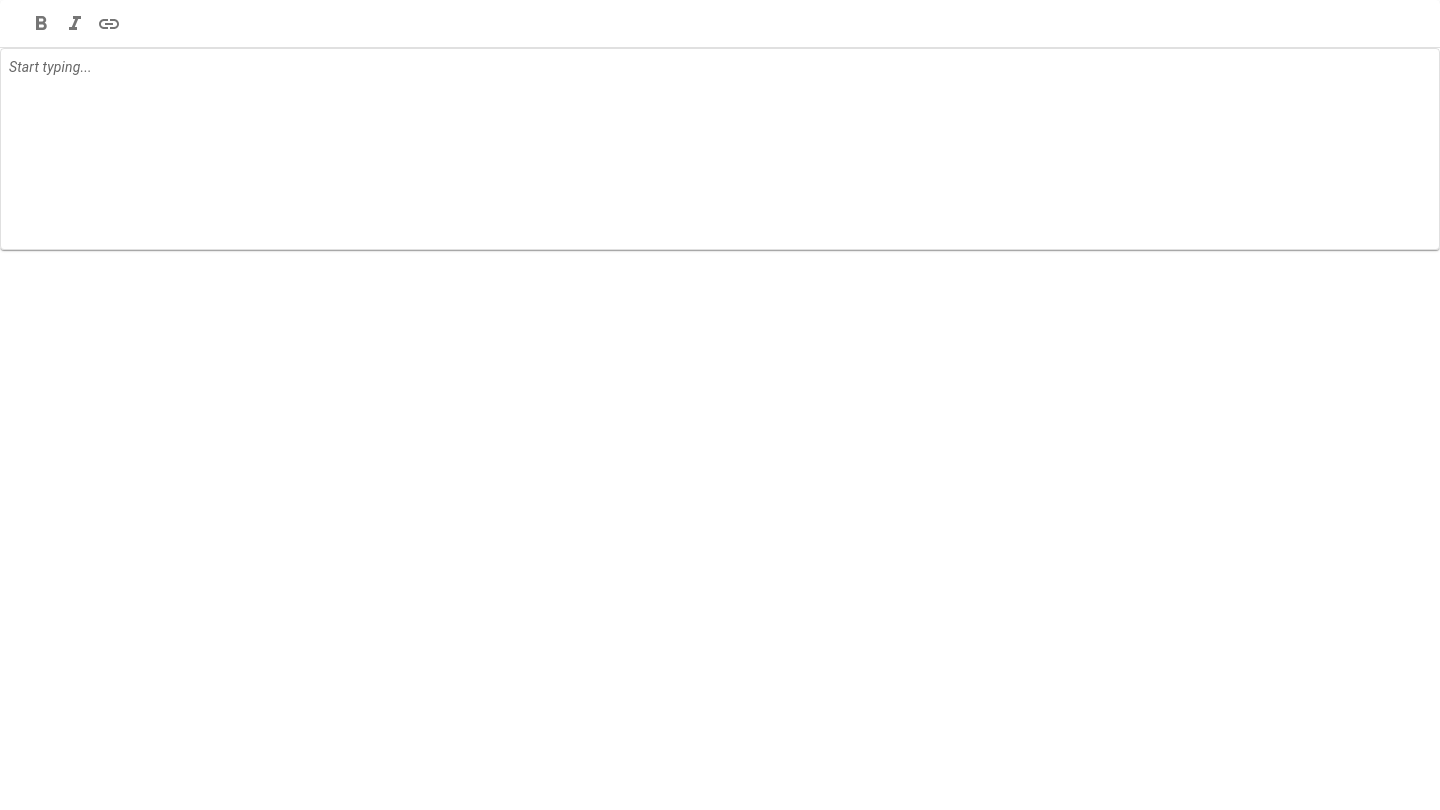
Test case: RichTextEditor › opens link dialog when link button is clicked
This screenshot has width=1440, height=810.
Click the button titled "Insert Link": {"x": 109, "y": 24} [92, 6, 126, 40]
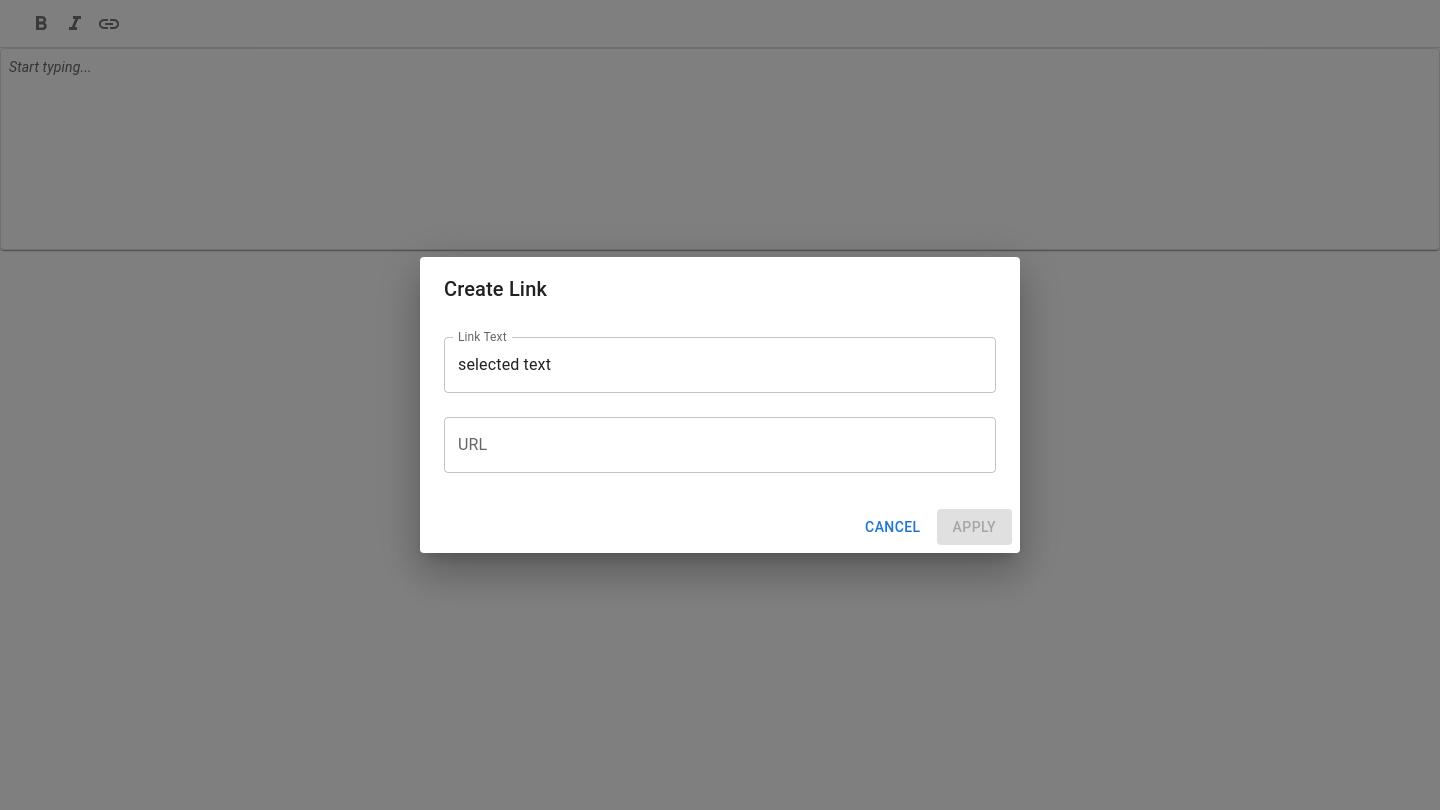
Check: the heading "Create Link" is shown, box [444, 277, 547, 301]
Check: the field labelled "Link Text" is shown, box [444, 337, 996, 393]
Check: the field labelled "URL" is shown, box [444, 417, 996, 473]
